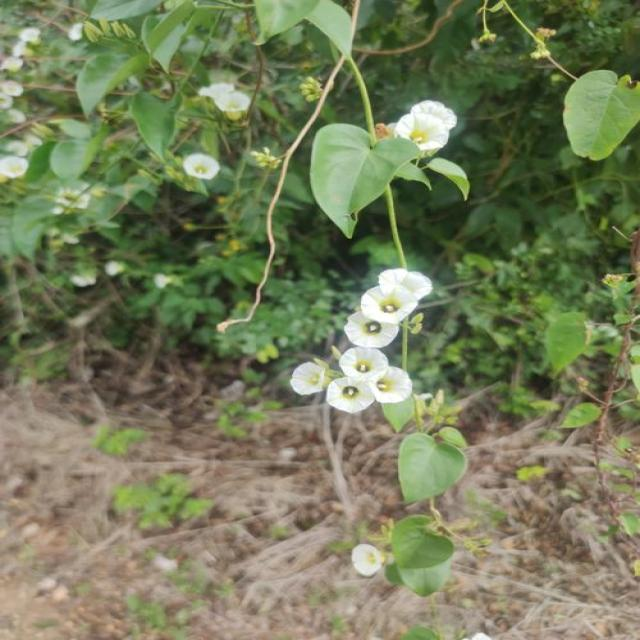ipomoea: (286, 265, 436, 417), (385, 98, 461, 158), (177, 150, 224, 184)
